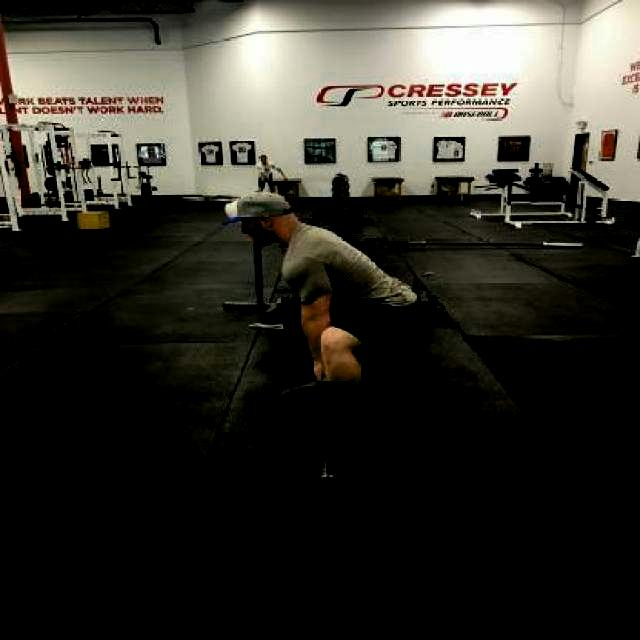barbell: (252, 379, 405, 500)
